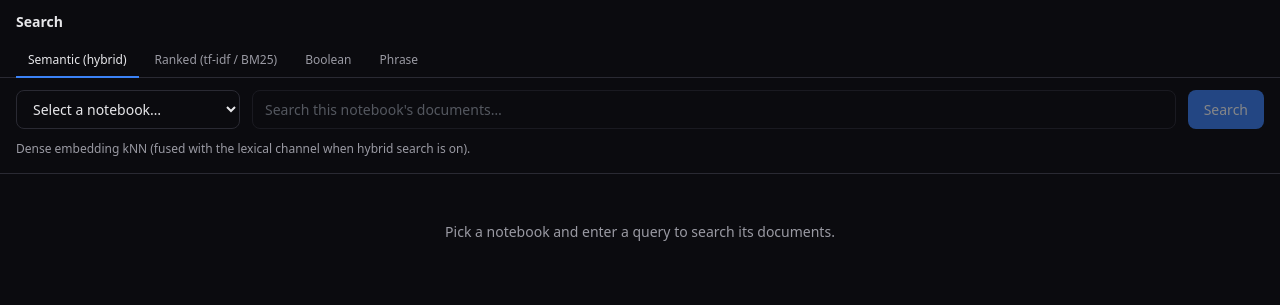
Test: SearchPage › submits a query with the selected notebook and renders the returned hits
The image size is (1280, 305).
Select "Chemistry" in the dropdown named "Notebook" at (128, 110), box [16, 90, 240, 129]
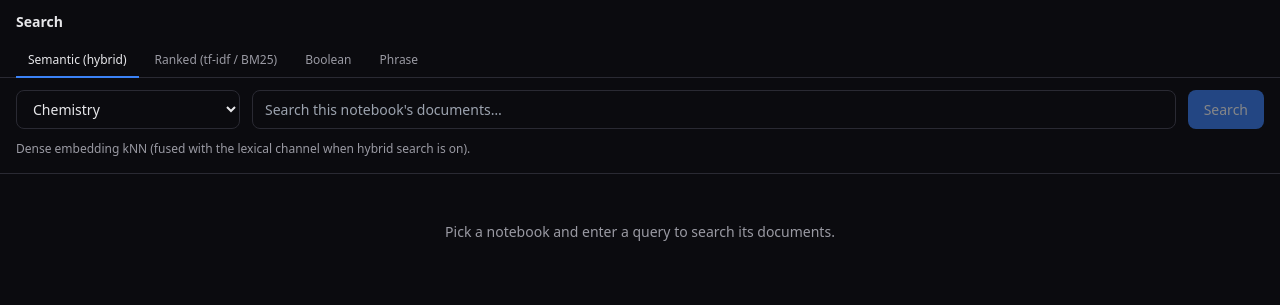
Type "octet rule" into the field with placeholder "Search this notebook's documents…" at (714, 110), box [252, 90, 1176, 129]
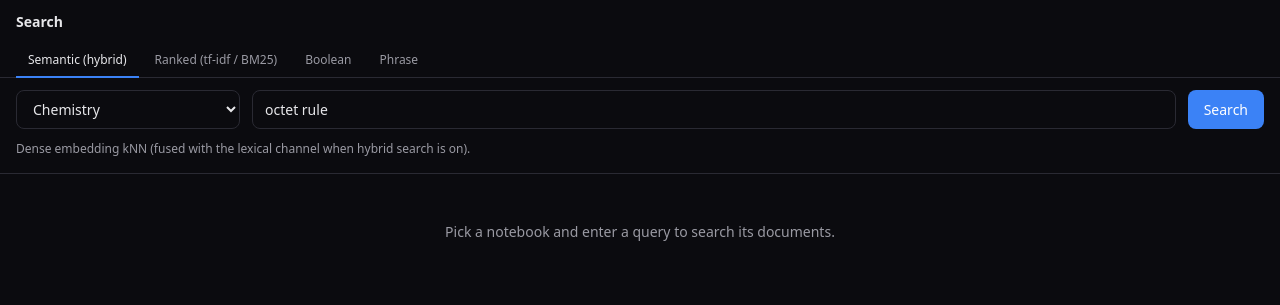
Click the button "Search" at (1226, 110), box [1188, 90, 1264, 129]
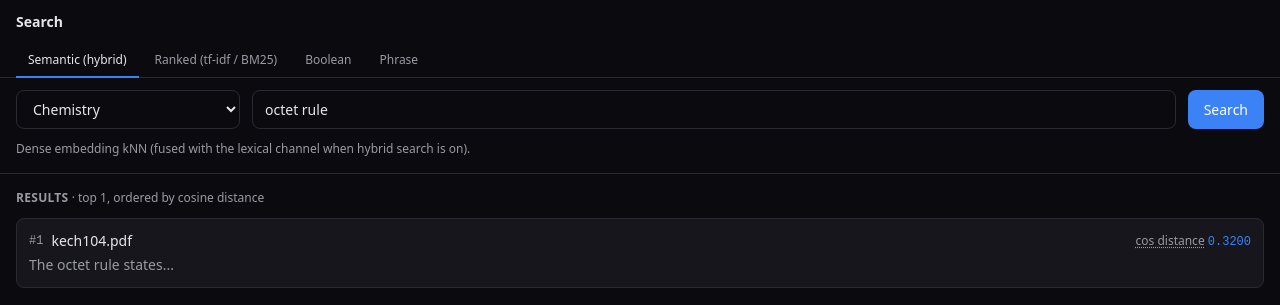
Result: the text "kech104.pdf" is shown at [51, 231, 132, 250]
Result: the text "The octet rule states..." is shown at [29, 255, 174, 274]
